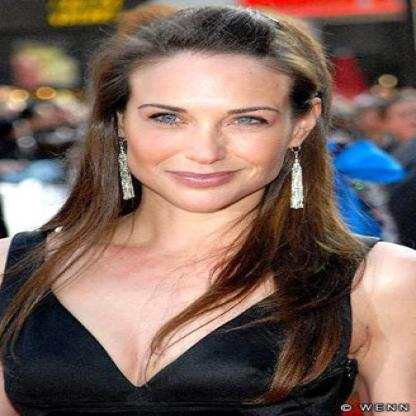long-hair: (33, 215, 360, 253)
